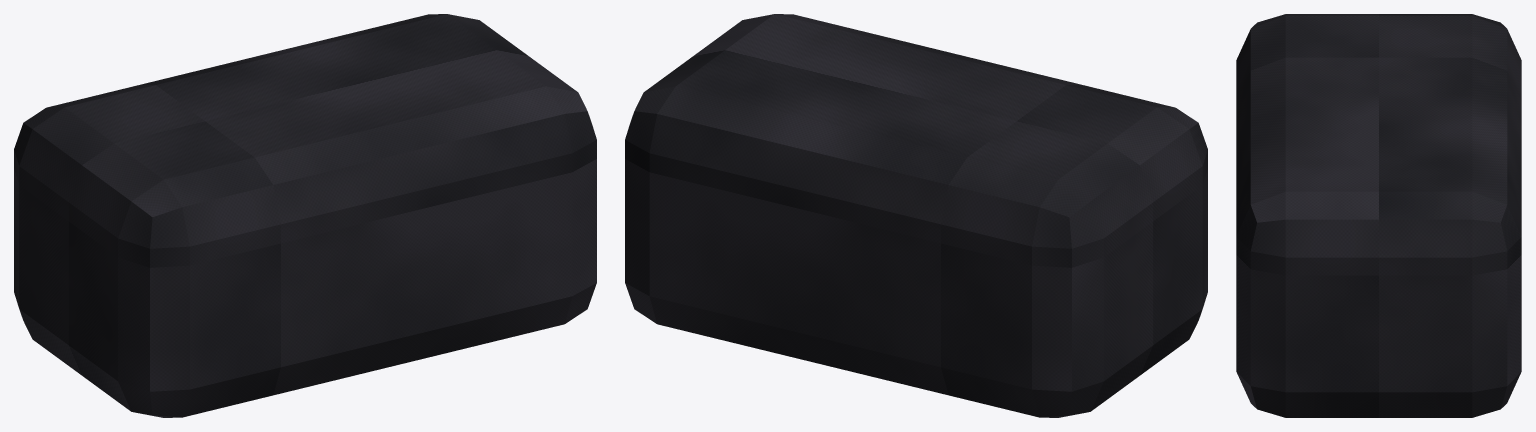
Rendered from Zombie_FootL.obj.
The picture shows the model from 3 angles, left to right: view 1: azimuth 30°, elevation 25°; view 2: azimuth 150°, elevation 25°; view 3: azimuth 270°, elevation 25°; orthographic projection. The views are drawn at different scales.
Size of the model in its own units: 0.26 by 0.125 by 0.144.
Materials: 1 (1 with a texture image).
